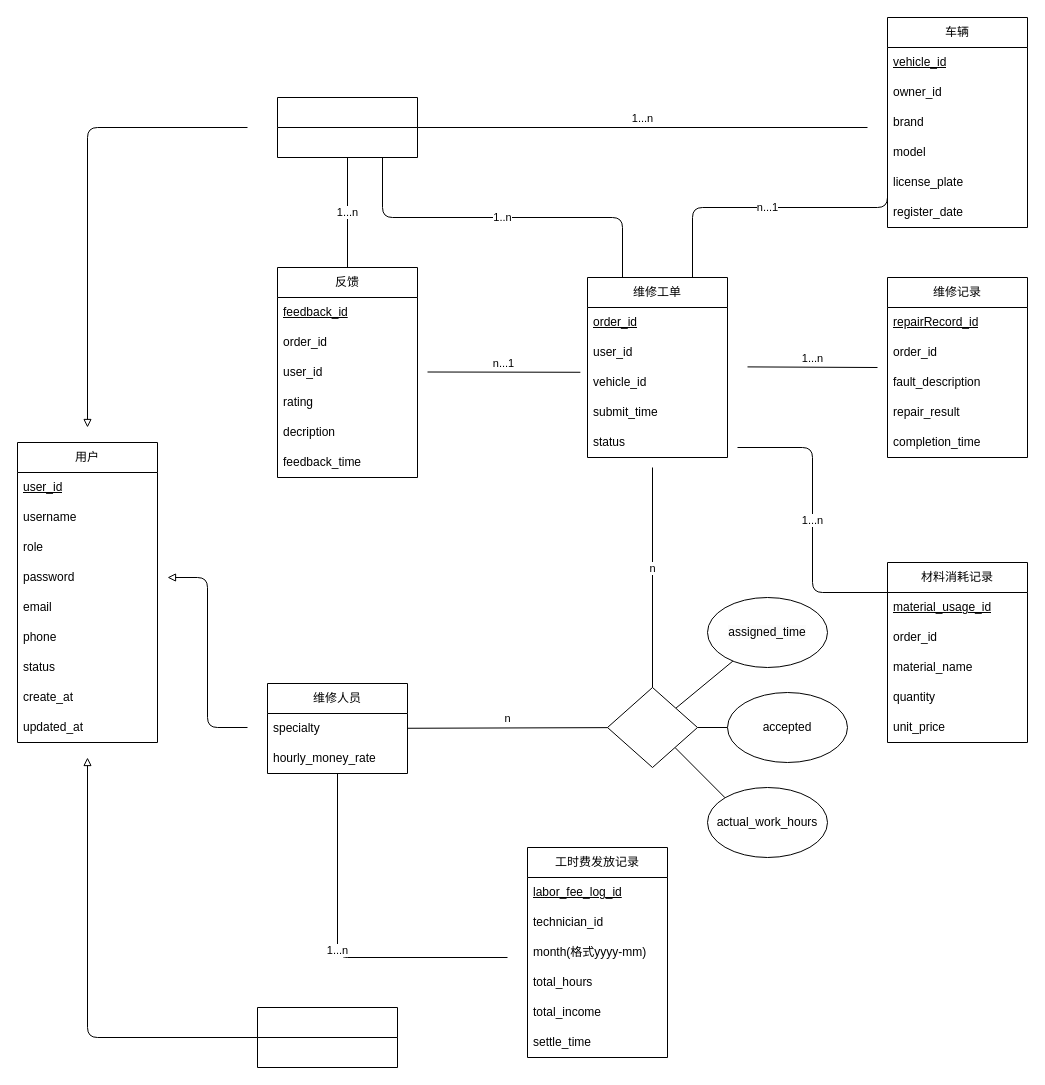
This 1045x1085 diagram has some shape labels left out. The shapes that lost their labels are listed below. From the top down, each one's centre as x and y in pixels, then its label:
At (x=347, y=127): "普通顾客".
At (x=652, y=727): "分配".
At (x=327, y=1037): "管理员".
